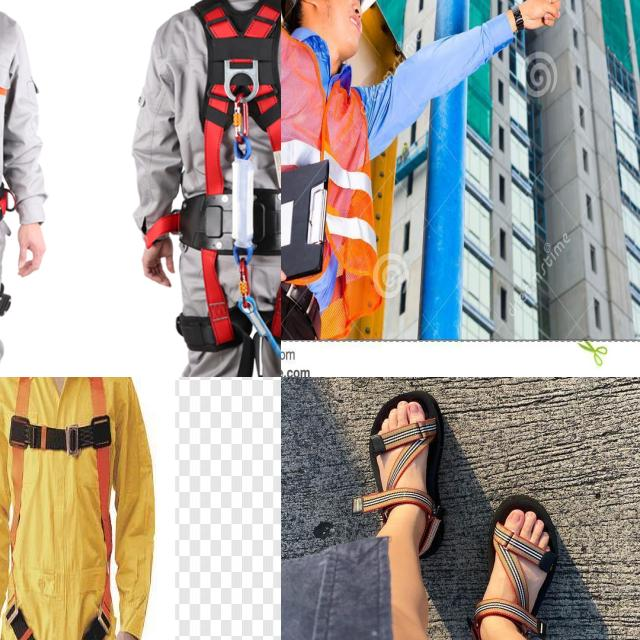Harness: (189, 0, 281, 342), (9, 377, 111, 640)
Sandals: (357, 382, 448, 550), (477, 487, 564, 640)
face_nomask: (310, 0, 376, 58)
hand_noglove: (508, 0, 567, 38)
person: (281, 0, 420, 333)
vest: (281, 29, 393, 316)
